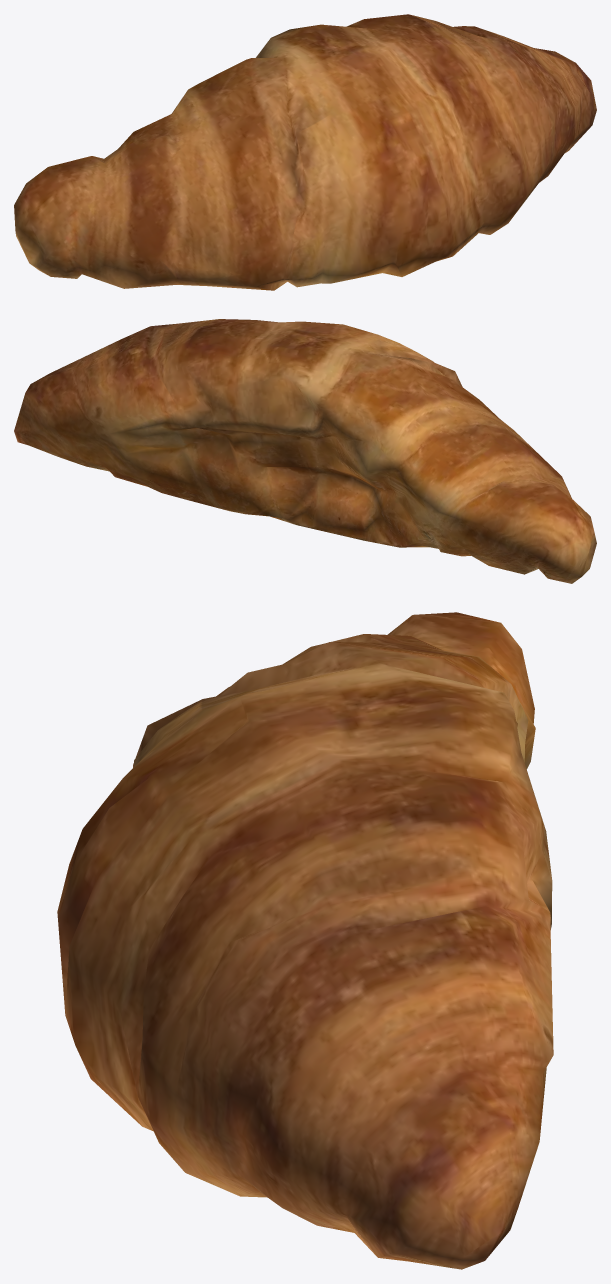
File: croissant.glb
3 renders of one model, top to bottom at view 1: azimuth 30°, elevation 25°; view 2: azimuth 150°, elevation 25°; view 3: azimuth 270°, elevation 25°, orthographic. The views are drawn at different scales.
Visible parts, largest first — view 1: croissant; view 2: croissant; view 3: croissant.
Part boxes in pixels (x1=…): croissant: x1=14, y1=14, x2=596, y2=290; croissant: x1=14, y1=319, x2=596, y2=583; croissant: x1=57, y1=612, x2=553, y2=1269.
Size of the model in its own units: 0.1993 by 0.0617 by 0.0751.
Materials: 1 (1 with a texture image).
